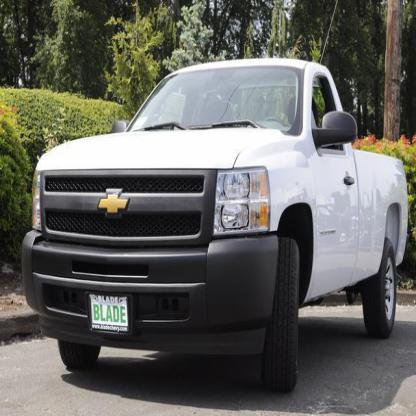Vehicle: (21, 60, 408, 390)
